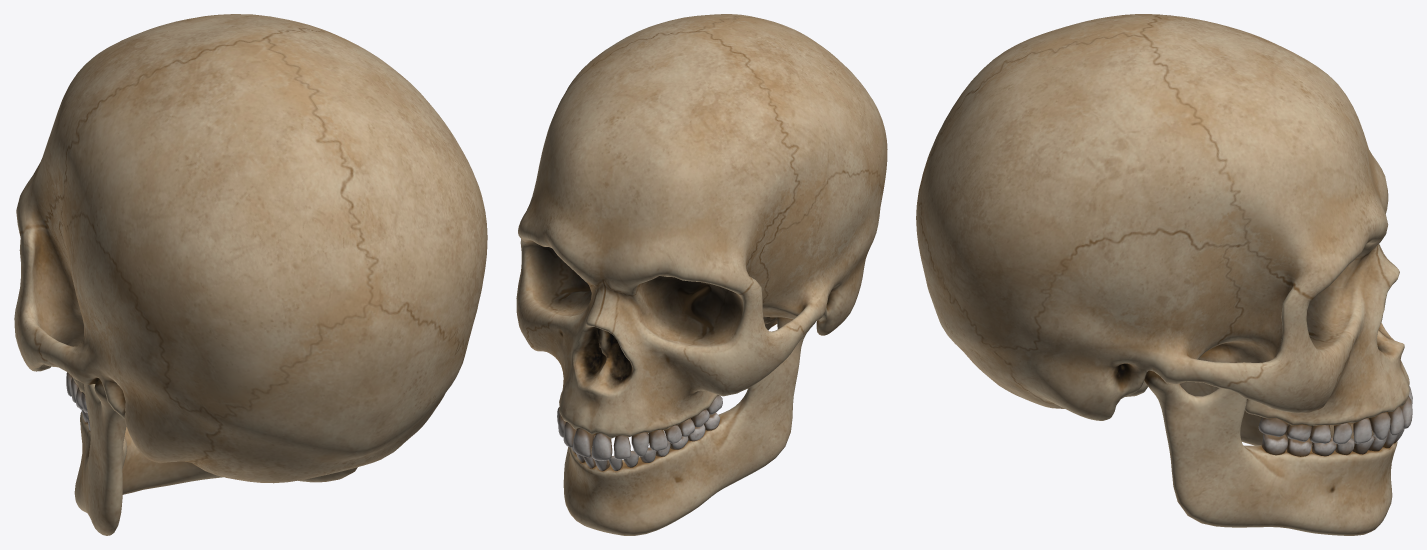
The model's file is talkingskull-v2.glb.
The picture shows the model from 3 angles, left to right: view 1: azimuth 30°, elevation 25°; view 2: azimuth 150°, elevation 25°; view 3: azimuth 270°, elevation 25°; orthographic projection. The views are drawn at different scales.
Visible parts, largest first — view 1: g (×2); view 2: g (×4); view 3: g (×4).
Part boxes in pixels (bbox=[...]): g (×2): bbox=[14, 14, 487, 535]; g (×4): bbox=[516, 14, 887, 535]; g (×4): bbox=[916, 14, 1412, 535].
Size of the model in its own units: 1.35 by 2 by 1.85.
Materials: 1 (1 with a texture image).
